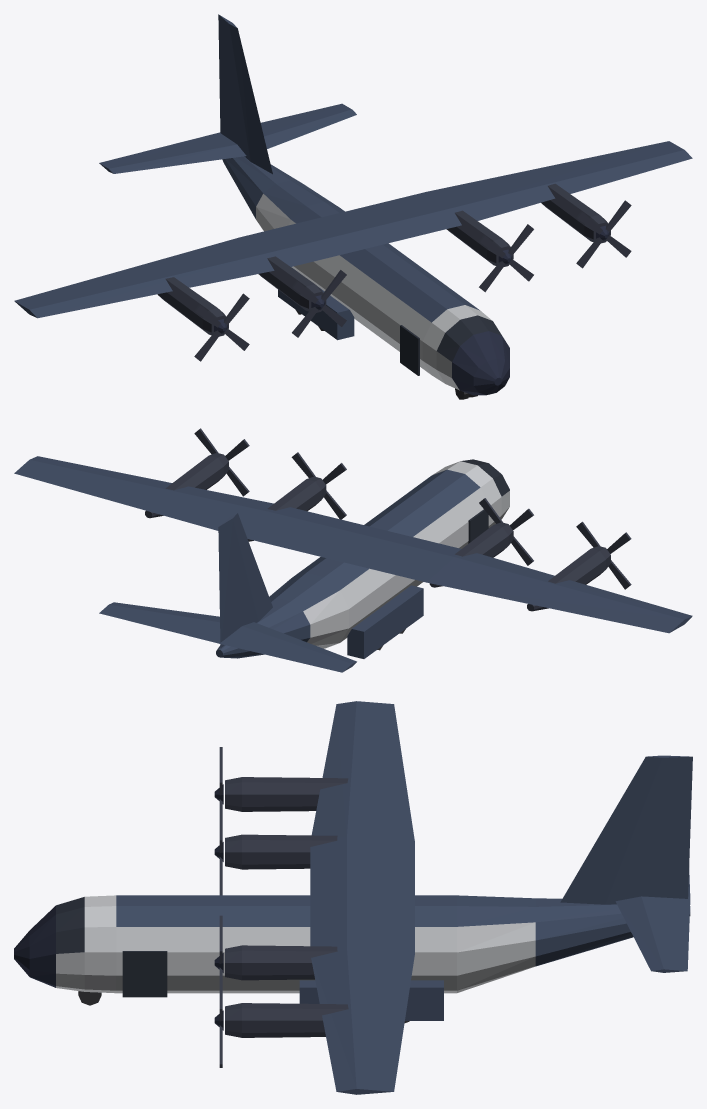
The model's file is avion_cargo.glb.
3 views of the same model, one above another, from view 1: azimuth 30°, elevation 25°; view 2: azimuth 150°, elevation 25°; view 3: azimuth 270°, elevation 25° (orthographic). The views are drawn at different scales.
Parts seen in each view (by area): view 1: avion_cargo; view 2: avion_cargo; view 3: avion_cargo.
Part boxes in pixels (x1,y1,x2,y2): avion_cargo: [14, 14, 692, 399]; avion_cargo: [14, 428, 692, 672]; avion_cargo: [14, 701, 692, 1094].
Size of the model in its own units: 35 by 10.3 by 25.9.
